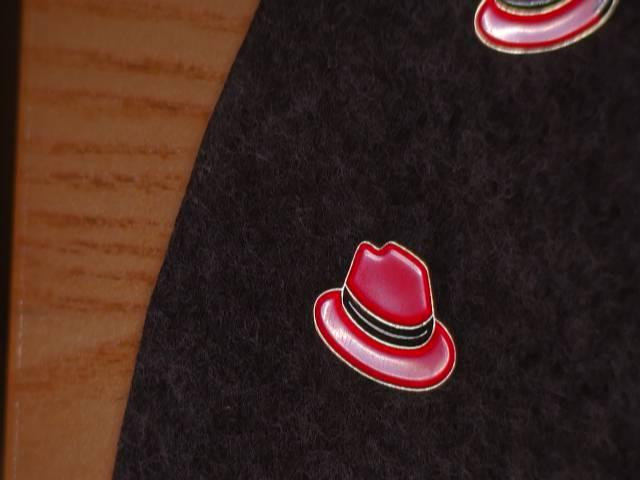Red-Hat: (284, 228, 485, 417), (458, 0, 638, 65)
